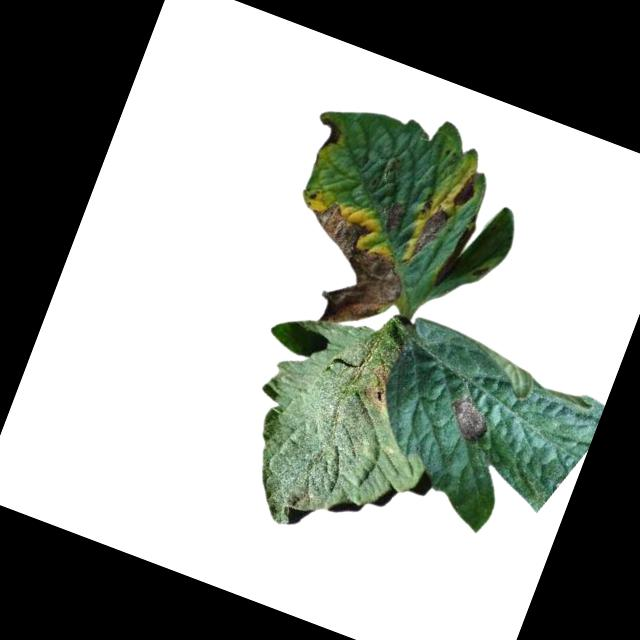Early_blight: (279, 195, 418, 343), (444, 393, 498, 448), (409, 199, 455, 263), (361, 359, 400, 408), (310, 112, 349, 155), (449, 168, 483, 214), (380, 197, 414, 236)
